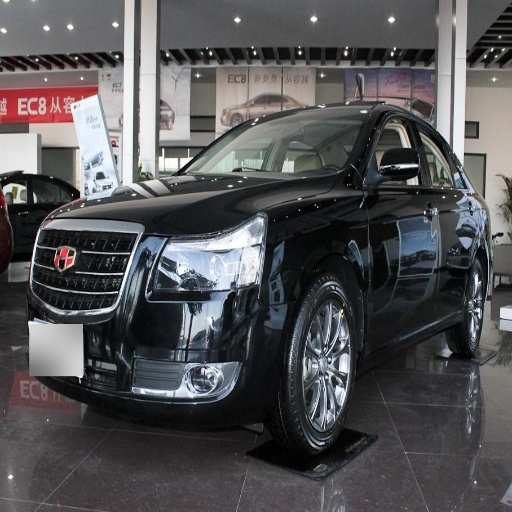front_bumper: (33, 220, 289, 404)
front_glass: (192, 114, 364, 175)
front_left_door: (366, 112, 442, 330)
